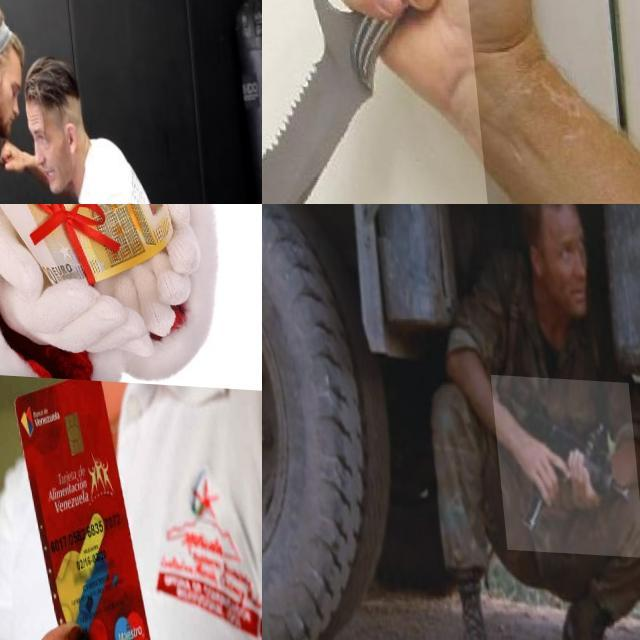-: (262, 0, 491, 204)
gun-knife-thesis - v11 Yolov5 augmented: (484, 370, 635, 552)
